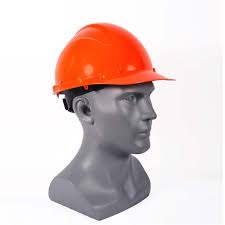Casco de seguridad: (54, 13, 180, 113)
